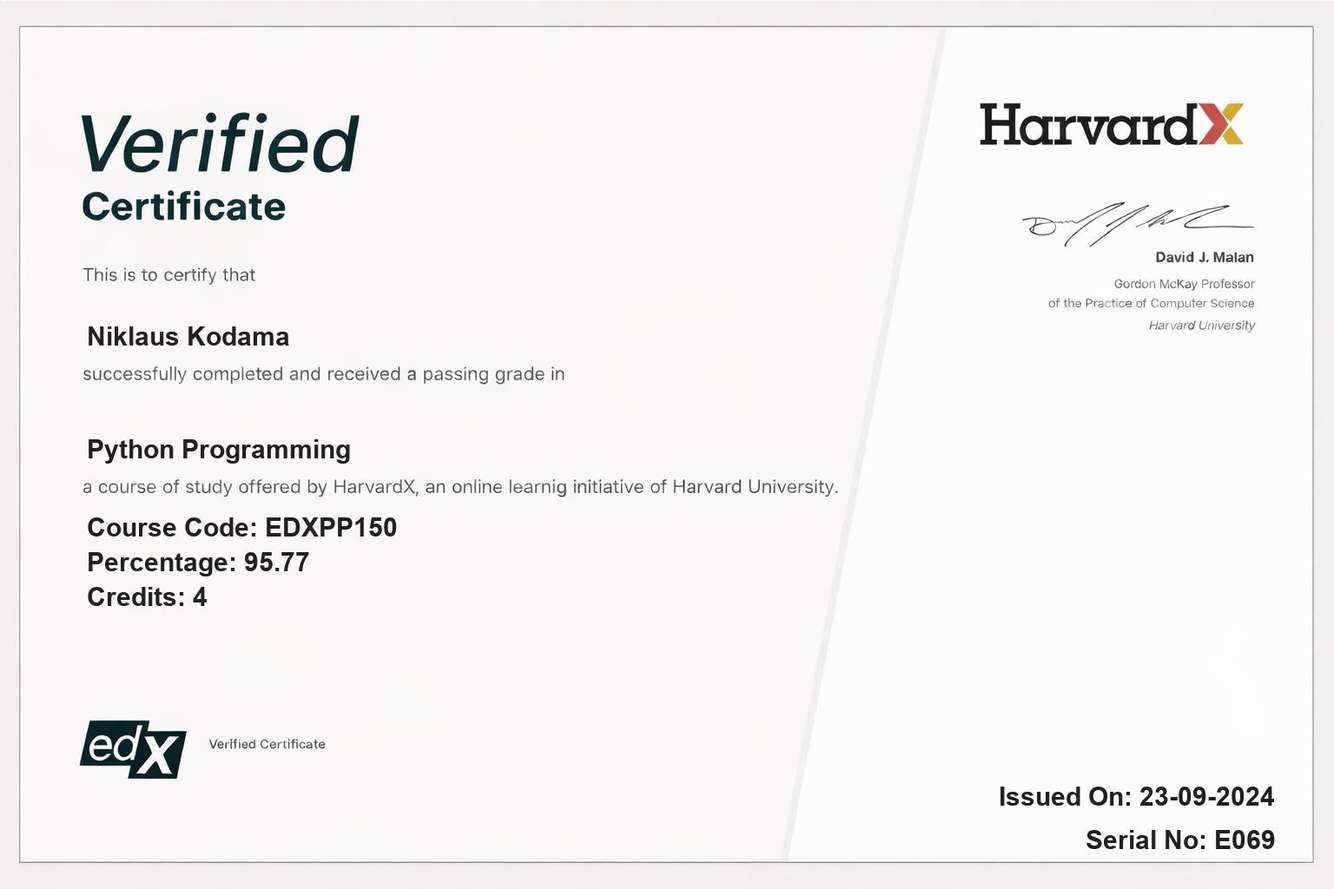Course Code: (261, 508, 402, 543)
Course Name: (75, 430, 358, 476)
Credits: (188, 579, 217, 612)
Issued On: (1132, 772, 1285, 819)
Percentage: (238, 545, 316, 582)
Serial No: (1212, 822, 1286, 859)
Student Name: (78, 314, 297, 356)
